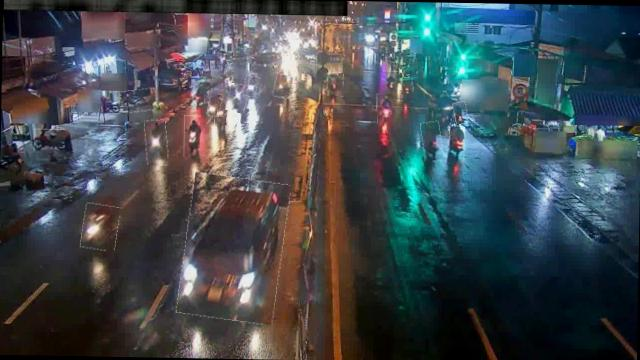Bike: (81, 202, 119, 250), (144, 119, 168, 165), (122, 88, 157, 112), (420, 122, 442, 160), (34, 128, 66, 153), (184, 115, 202, 157), (448, 126, 466, 163), (226, 83, 248, 112), (376, 93, 394, 124), (214, 103, 230, 134), (274, 74, 293, 98), (327, 72, 344, 97), (208, 88, 222, 116), (244, 76, 261, 98), (193, 81, 206, 107), (453, 102, 467, 124), (383, 70, 399, 89), (400, 78, 412, 102)
Car: (180, 174, 288, 322)
